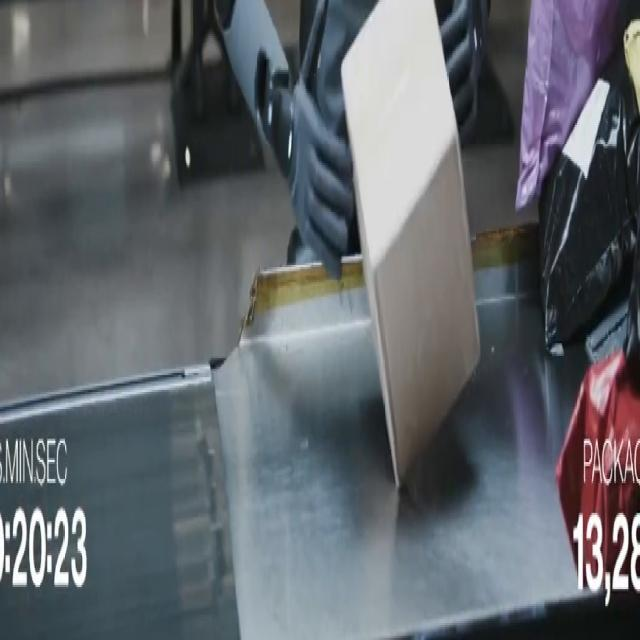package: (342, 0, 479, 485), (539, 47, 639, 349), (556, 246, 639, 576), (516, 0, 619, 209), (556, 350, 639, 591), (586, 278, 632, 362)
